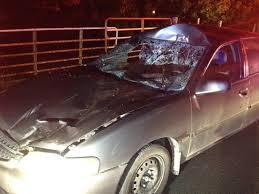Front-Windscreen-Damage: (101, 37, 197, 83)
bonnet-dent: (2, 78, 127, 140)
